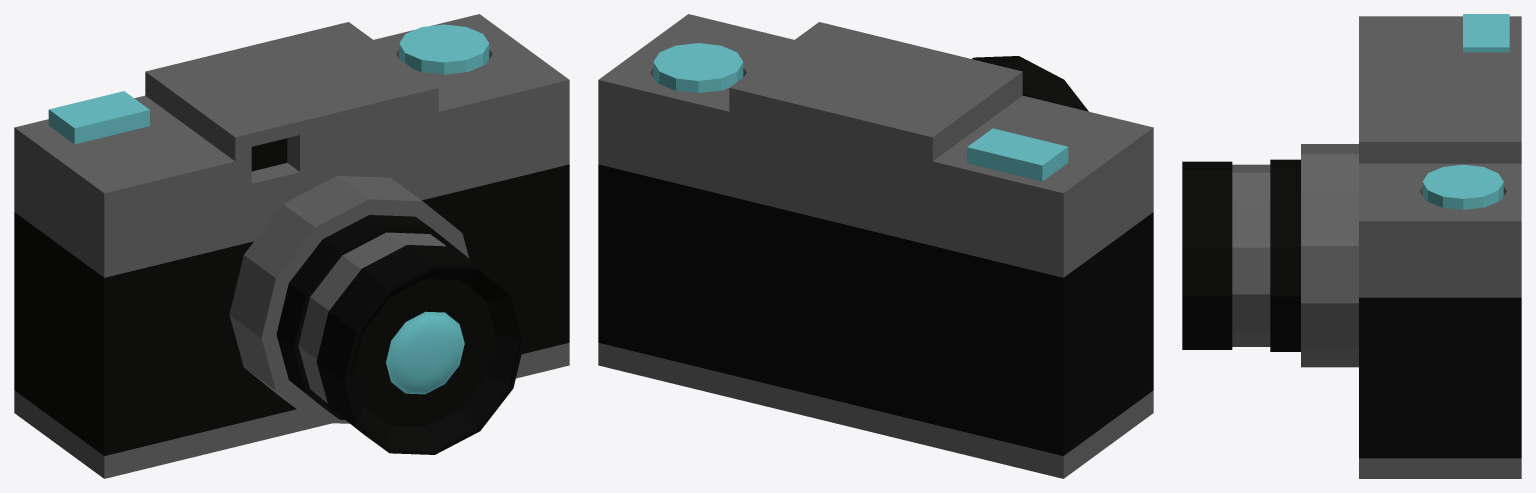
File: camera.obj
The picture shows the model from 3 angles, left to right: view 1: azimuth 30°, elevation 25°; view 2: azimuth 150°, elevation 25°; view 3: azimuth 270°, elevation 25°; orthographic projection. The views are drawn at different scales.
Parts seen in each view (by area): view 1: Cube, Cylinder, Cylinder.001, Cube.001; view 2: Cube, Cylinder.001, Cube.001, Cylinder; view 3: Cube, Cylinder, Cylinder.001, Cube.001.
Part boxes in pixels (left/top/right/bottom): Cube: left=14, top=14, right=569, bottom=478; Cylinder: left=229, top=176, right=525, bottom=454; Cylinder.001: left=399, top=24, right=489, bottom=74; Cube.001: left=48, top=91, right=149, bottom=144; Cube: left=598, top=14, right=1153, bottom=478; Cylinder.001: left=653, top=43, right=743, bottom=92; Cube.001: left=967, top=128, right=1068, bottom=181; Cylinder: left=972, top=56, right=1088, bottom=111; Cube: left=1359, top=16, right=1521, bottom=478; Cylinder: left=1182, top=144, right=1358, bottom=367; Cylinder.001: left=1422, top=164, right=1503, bottom=209; Cube.001: left=1463, top=14, right=1509, bottom=52.
Bounding box in the file's own units: 3.41 × 2.17 × 2.39.
